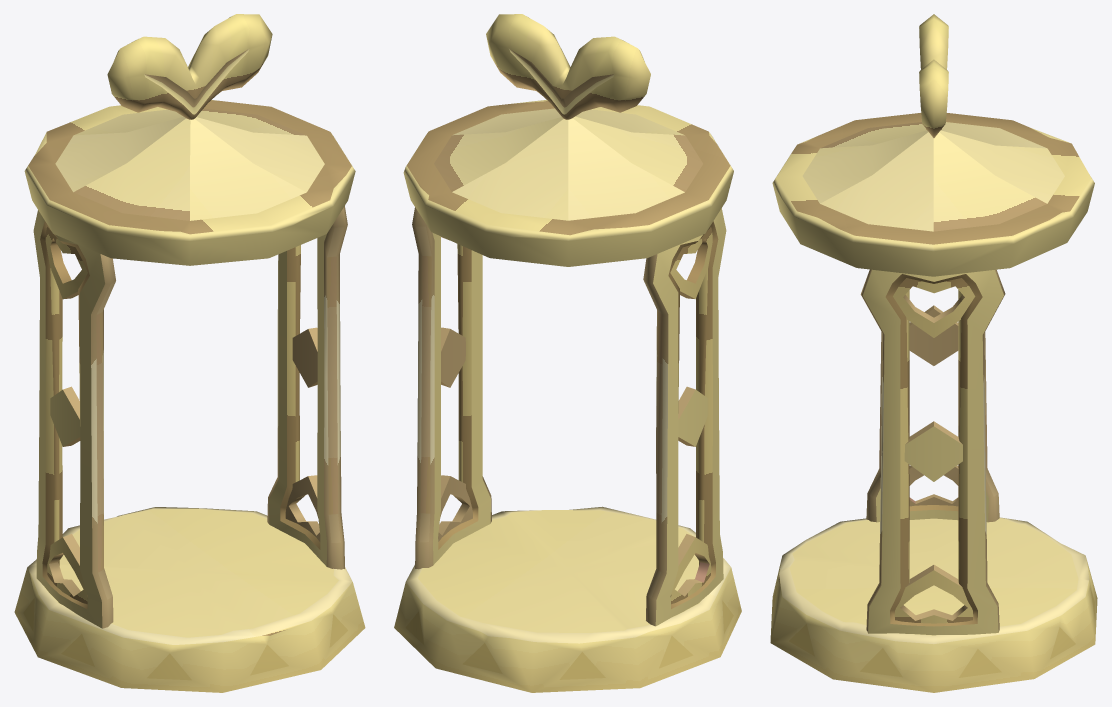
Rendered from Prop_twinRibbon_Hourglass.glb.
3 renders of one model, left to right at view 1: azimuth 30°, elevation 25°; view 2: azimuth 150°, elevation 25°; view 3: azimuth 270°, elevation 25°, orthographic. The views are drawn at different scales.
Parts seen in each view (by area): view 1: Prop_twinRibbon_Hourglass; view 2: Prop_twinRibbon_Hourglass; view 3: Prop_twinRibbon_Hourglass.
Boxes of the visible parts, x1,y1,x2,y2 form: Prop_twinRibbon_Hourglass: (14,14,365,692); Prop_twinRibbon_Hourglass: (394,14,741,692); Prop_twinRibbon_Hourglass: (770,14,1097,692).
Size of the model in its own units: 0.7734 by 1.44 by 0.7387.
1 material, 1 textured.
